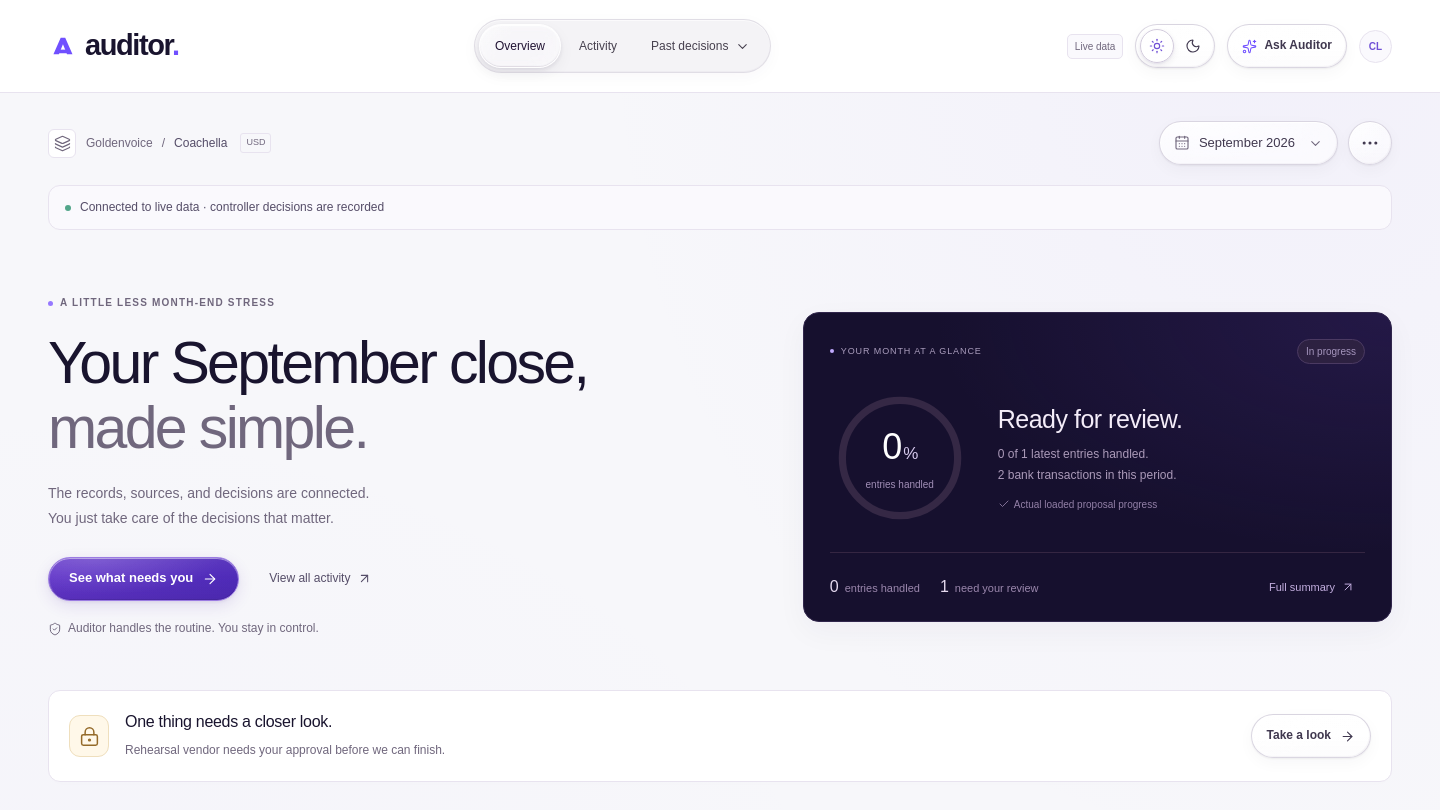
Test: live controller rehearsal from the workspace › finds demo past decisions by vendor names in source excerpts
Click the button named "More workspace tools".
click(1370, 143)  # box [1348,121,1392,165]
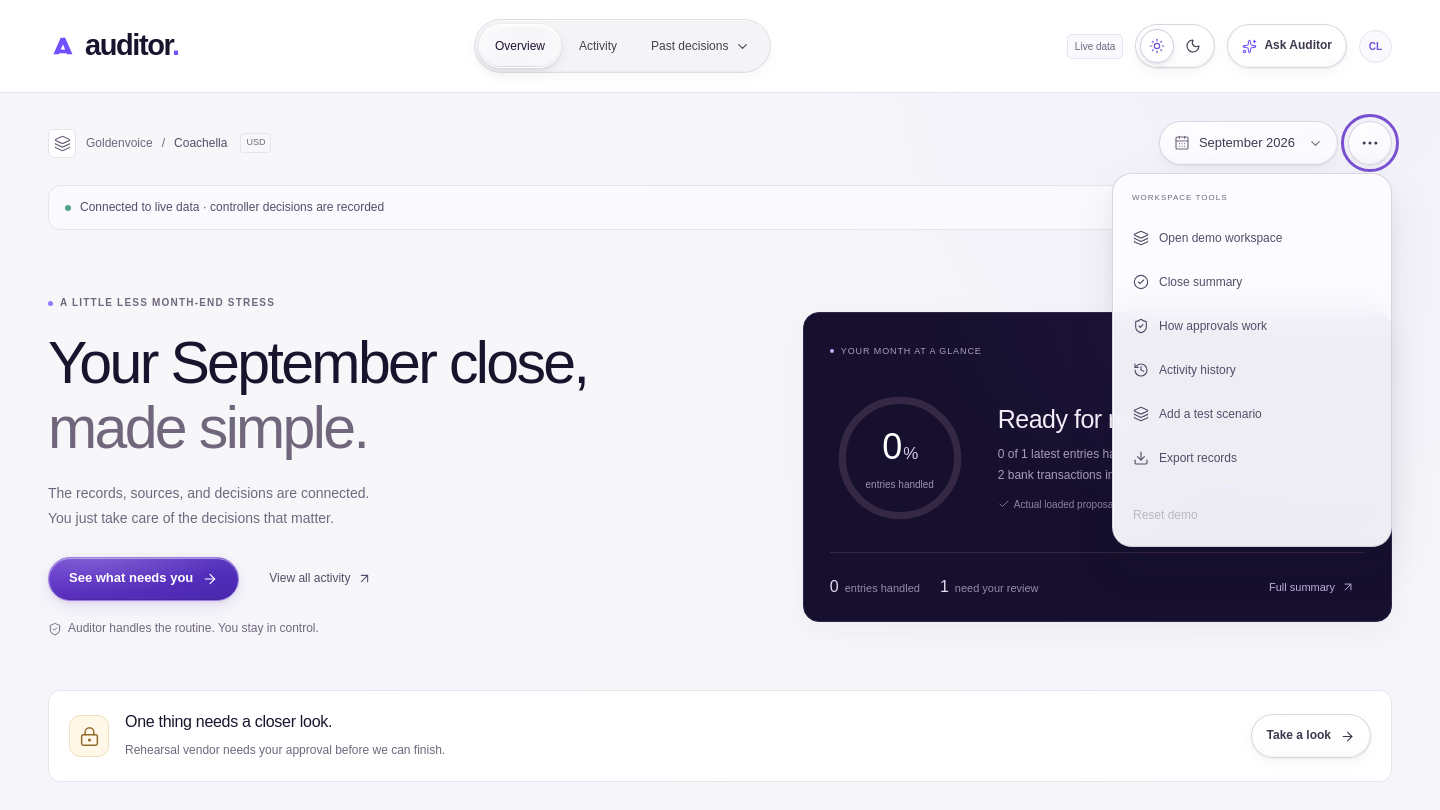
Click the button "Open demo workspace".
click(1252, 238)  # box [1122,216,1382,260]
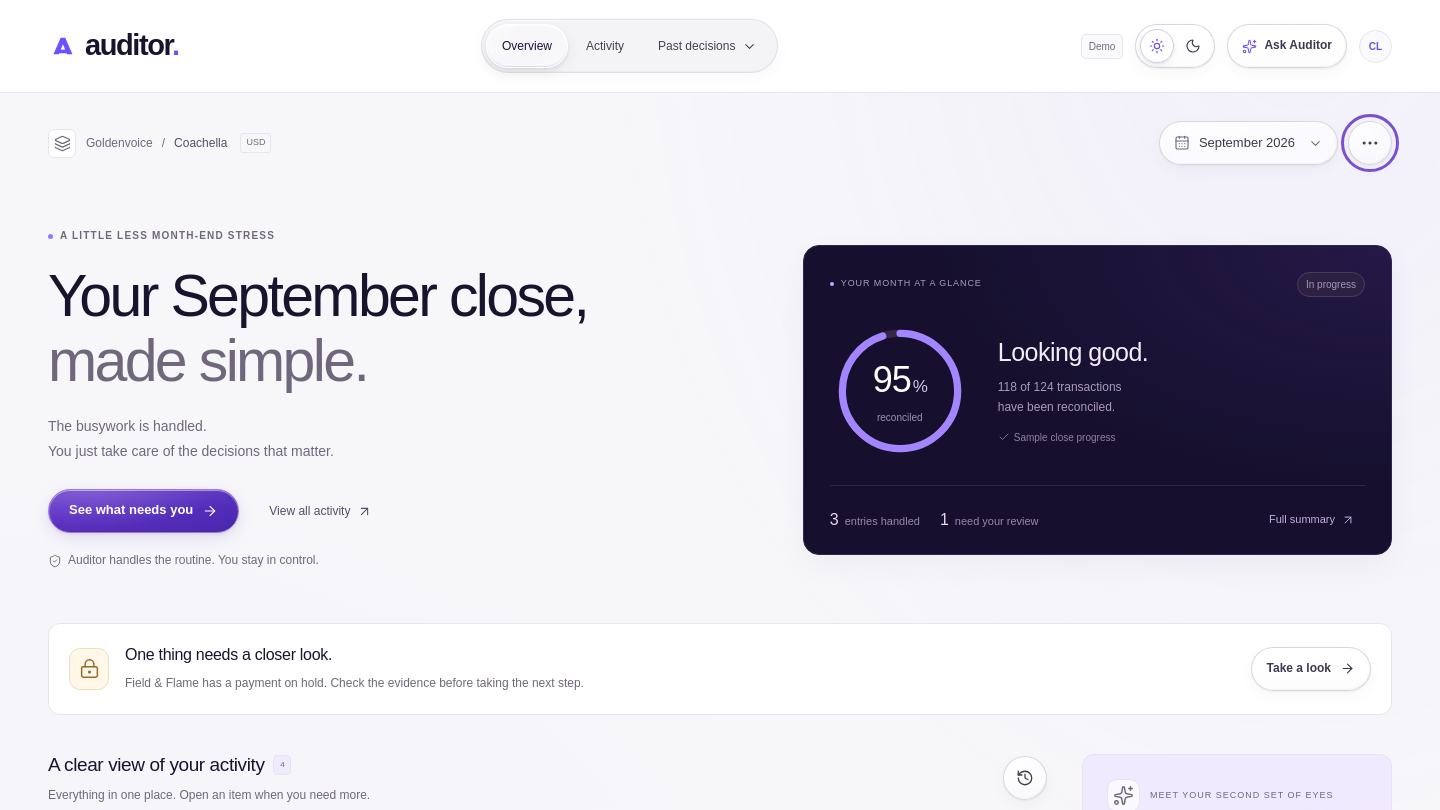
Click the button "Past decisions".
click(708, 46)  # box [642,24,773,68]
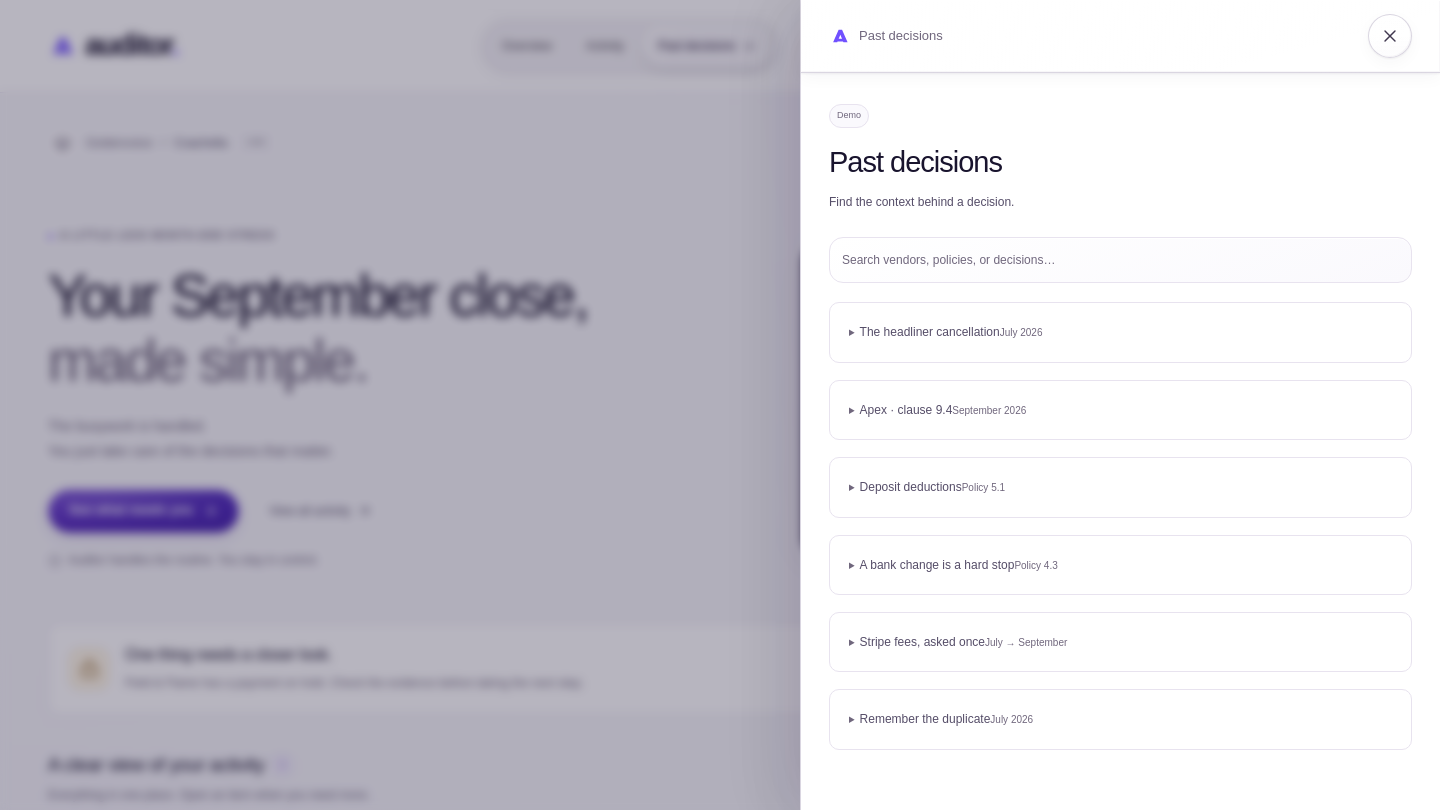
Type "  nOrThErN LiNeS  " into the search field named "Search past decisions".
click(1120, 260); type("  nOrThErN LiNeS  ")  # box [829,238,1412,284]
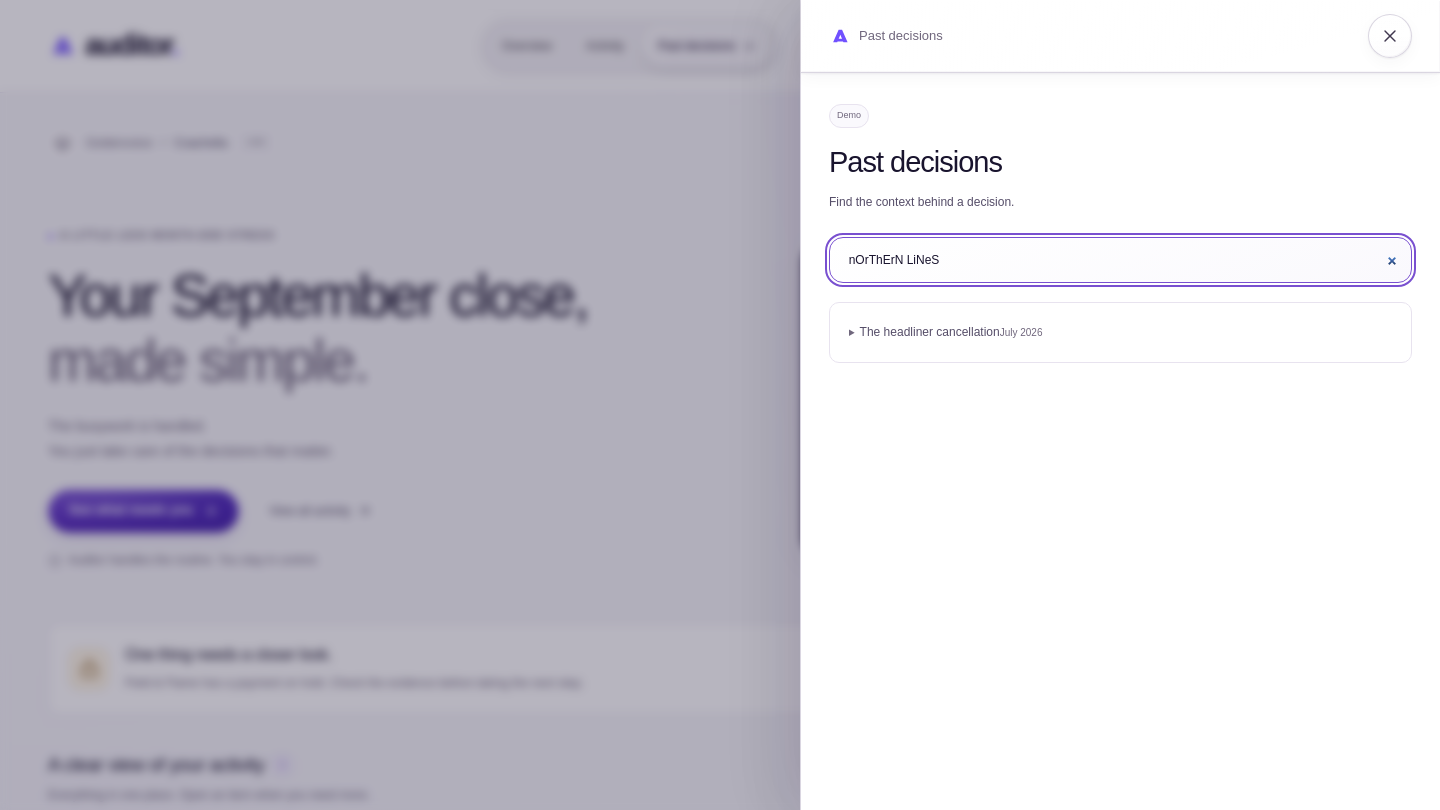
expect the text "The headliner cancellation" is shown: met, box [860,326,1000,340]
expect the heading "A bank change is a hard stop" is gone: met
